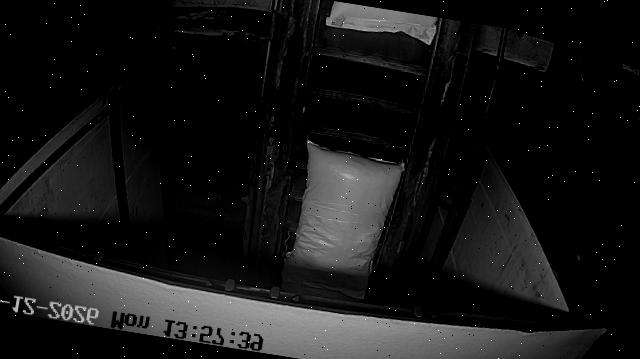bag: (284, 140, 408, 302), (325, 0, 438, 45)
